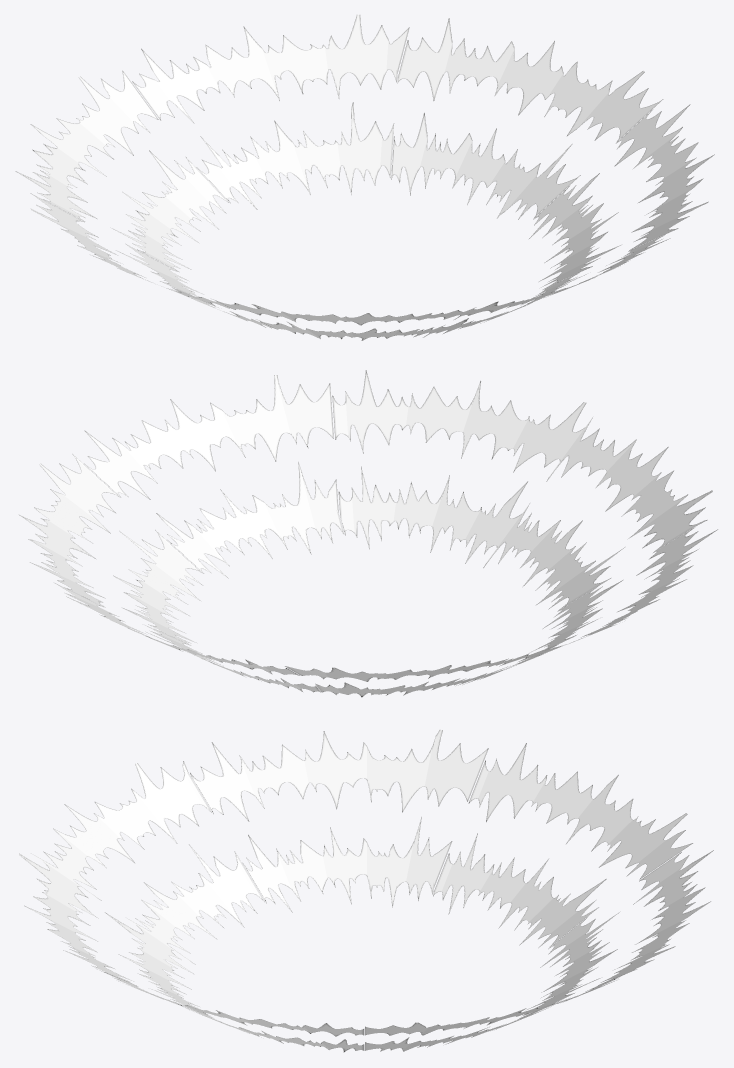
Rendered from inpact.fbx.
3 renders of one model, top to bottom at view 1: azimuth 30°, elevation 25°; view 2: azimuth 150°, elevation 25°; view 3: azimuth 270°, elevation 25°, orthographic.
Parts seen in each view (by area): view 1: 円; view 2: 円; view 3: 円.
Boxes of the visible parts, box(x1,y1,x2,y2) form: 円: box(15, 14, 714, 340); 円: box(19, 370, 717, 697); 円: box(19, 729, 713, 1052).
Size of the model in its own units: 406 by 66.43 by 406.
